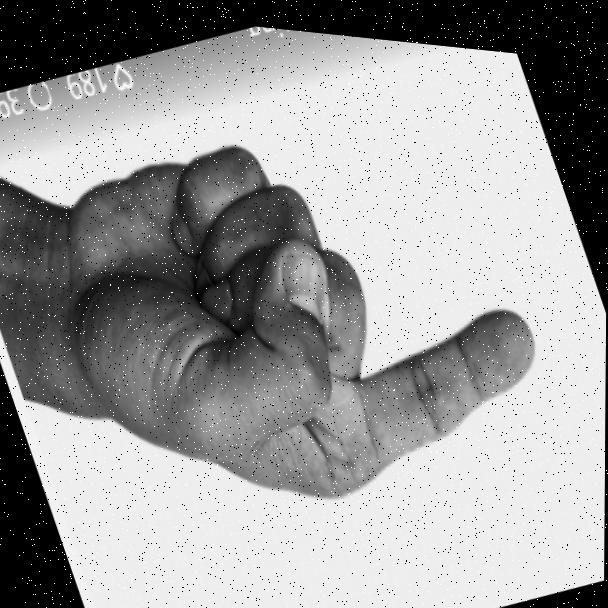five: (7, 17, 584, 598)
